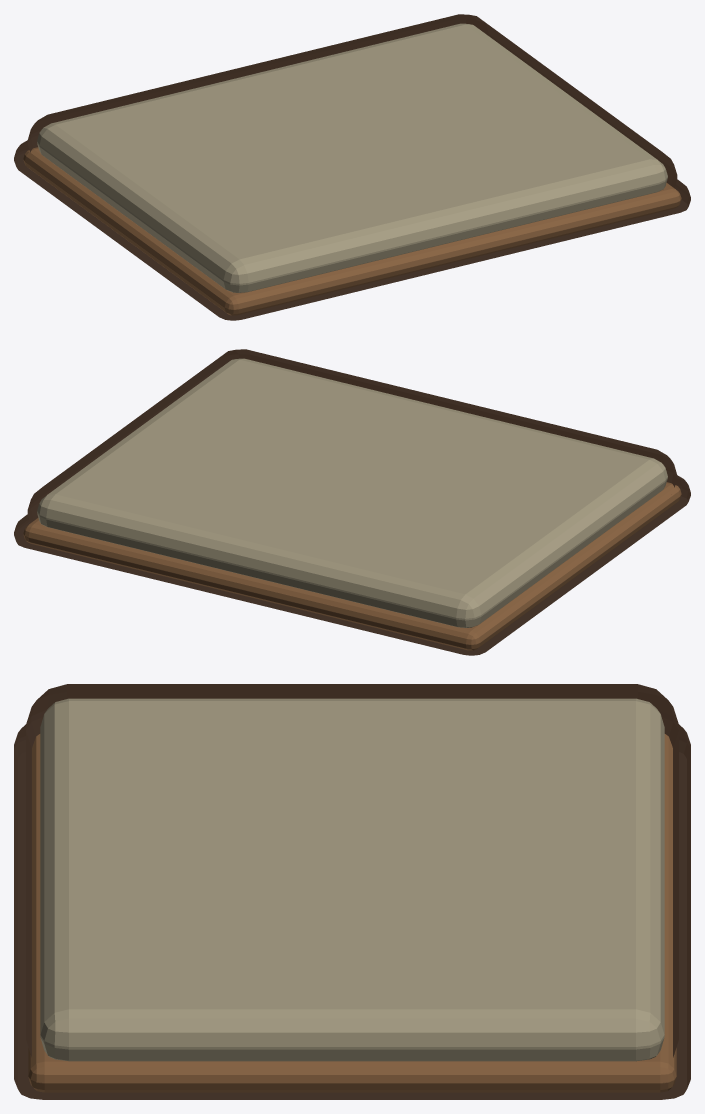
File: library-pillow.glb
3 renders of one model, top to bottom at view 1: azimuth 30°, elevation 25°; view 2: azimuth 150°, elevation 25°; view 3: azimuth 270°, elevation 25°, orthographic. The views are drawn at different scales.
Visible parts, largest first — view 1: library-pillow, library-pillow-outline; view 2: library-pillow, library-pillow-outline; view 3: library-pillow, library-pillow-outline.
Boxes of the visible parts, bbox=[...] form: library-pillow: bbox=[23, 23, 681, 315]; library-pillow-outline: bbox=[14, 14, 690, 320]; library-pillow: bbox=[23, 358, 681, 650]; library-pillow-outline: bbox=[14, 349, 690, 655]; library-pillow: bbox=[28, 698, 676, 1092]; library-pillow-outline: bbox=[14, 684, 690, 1099].
Bounding box in the file's own units: 1.04 × 0.1157 × 0.8354.
